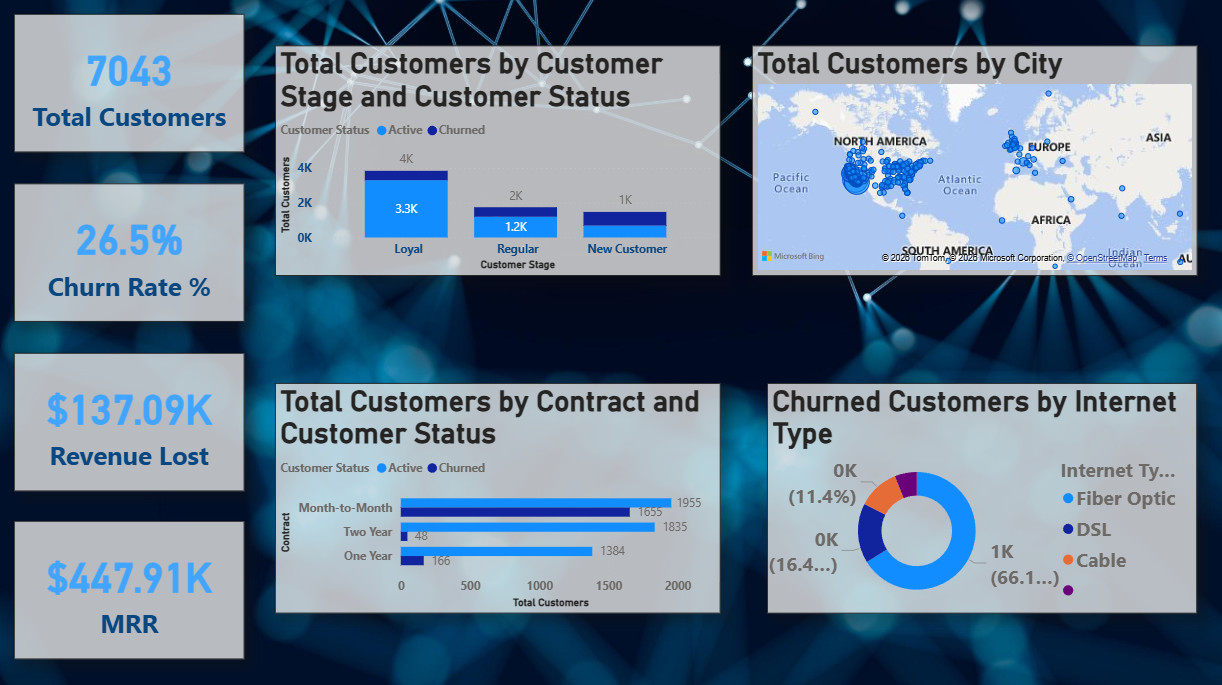

The page's visual inventory and layout, read from the dashboard file:
{"tool":"powerbi","page":{"name":"Custom","canvas":[1280,720],"ordinal":5},"visuals":[{"type":"columnChart","fields":{"Category":["telecom_customer_churn.Customer Stage"],"Y":["telecom_customer_churn.Total Customers"],"Series":["telecom_customer_churn.Customer Status"]},"box":[288,48,464,240],"z":0},{"type":"clusteredBarChart","fields":{"Category":["telecom_customer_churn.Contract"],"Y":["telecom_customer_churn.Total Customers"],"Series":["telecom_customer_churn.Customer Status"]},"box":[288,400,464,240],"z":1},{"type":"donutChart","fields":{"Category":["telecom_customer_churn.Internet Type"],"Y":["telecom_customer_churn.Churned Customers"]},"box":[800,400,448,240],"z":2},{"type":"map","fields":{"Category":["telecom_customer_churn.City"],"Size":["telecom_customer_churn.Total Customers"]},"box":[784,48,464,240],"z":3},{"type":"card","fields":{"Values":["telecom_customer_churn.Revenue Lost"]},"box":[16,368,240,144],"z":4},{"type":"card","fields":{"Values":["telecom_customer_churn.Total Customers"]},"box":[16,16,240,144],"z":5},{"type":"card","fields":{"Values":["telecom_customer_churn.Churn Rate %"]},"box":[16,192,240,144],"z":6},{"type":"card","fields":{"Values":["telecom_customer_churn.MRR"]},"box":[16,544,240,144],"z":7}]}

Visuals, with their boxes in screenshot pixels (x1, y1, x2, y2), scaled from the page's 1280x720 canvas onto the 1222x685 screenshot:
columnChart - telecom_customer_churn.Customer Stage x telecom_customer_churn.Total Customers: crop(275, 46, 718, 274)
clusteredBarChart - telecom_customer_churn.Contract x telecom_customer_churn.Total Customers: crop(275, 381, 718, 609)
donutChart - telecom_customer_churn.Internet Type x telecom_customer_churn.Churned Customers: crop(764, 381, 1191, 609)
map - telecom_customer_churn.City x telecom_customer_churn.Total Customers: crop(748, 46, 1191, 274)
card - telecom_customer_churn.Revenue Lost: crop(15, 350, 244, 487)
card - telecom_customer_churn.Total Customers: crop(15, 15, 244, 152)
card - telecom_customer_churn.Churn Rate %: crop(15, 183, 244, 320)
card - telecom_customer_churn.MRR: crop(15, 518, 244, 655)
